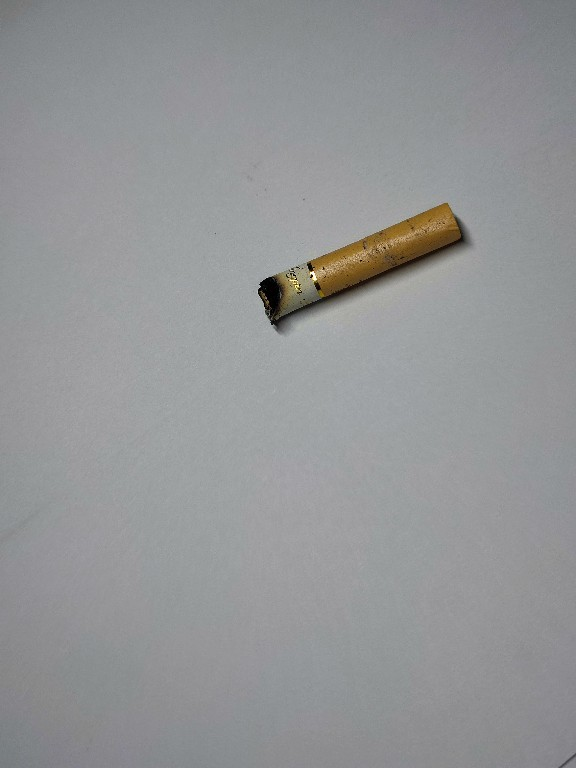cigarette: (254, 199, 468, 335)
